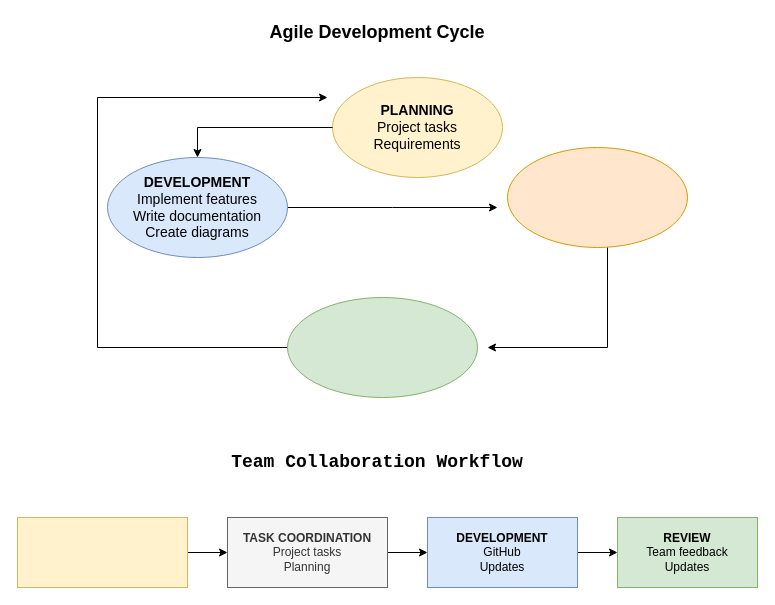
The diagram is 775 pixels wide and 605 high, and some of its shapes have lost their labels. The shapes that lost their labels are listed below. From the top down, each one's centre as x and y in pixels, then its label:
the point at 597,197: REVIEW Team checks work Feedback
the point at 382,347: IMPROVEMENTS Fix issues Refine sections Update work
the point at 102,552: TEAM COMMUNICATION Discord
